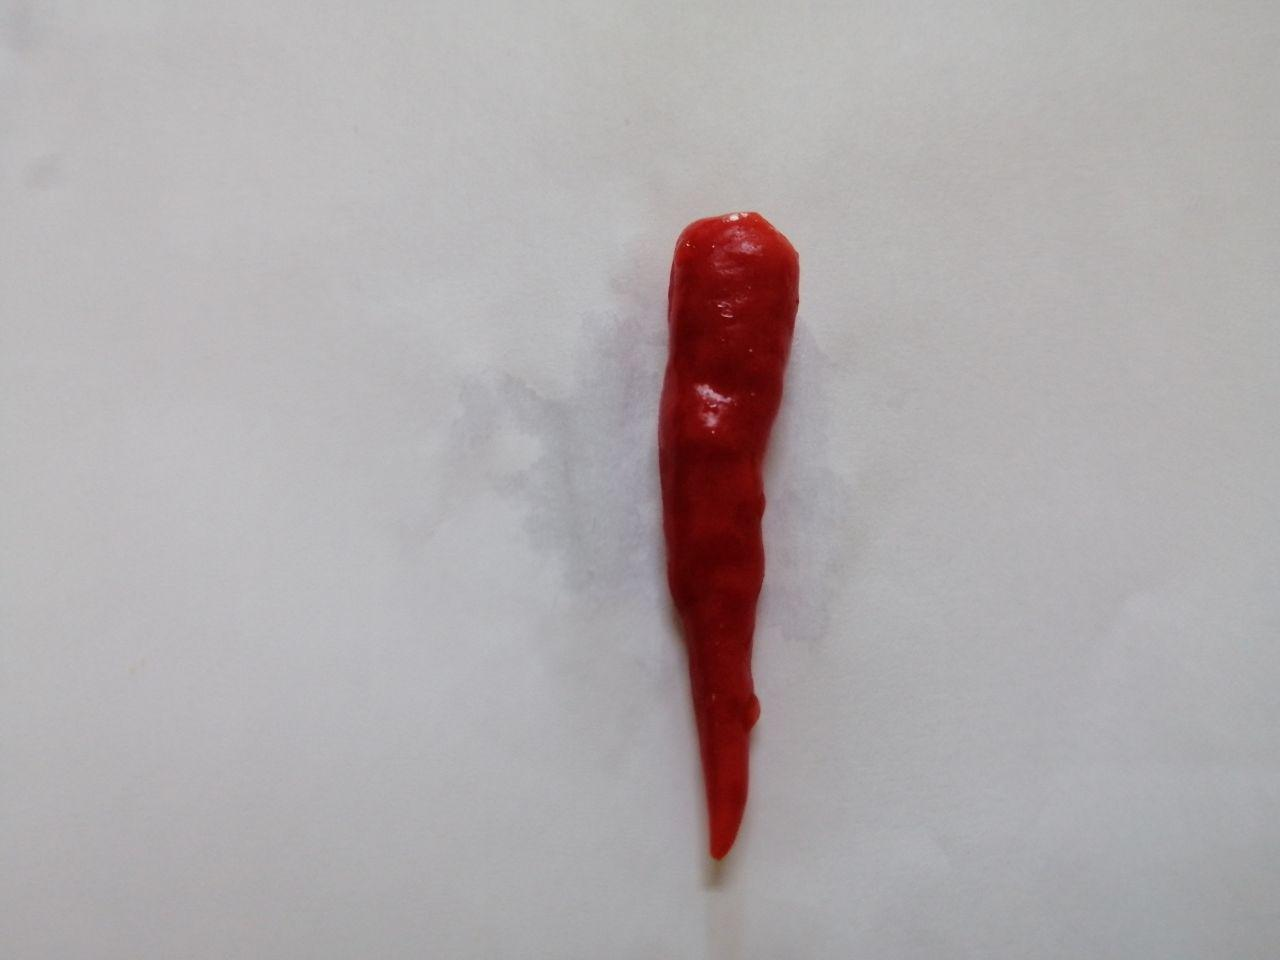lada merah: (634, 197, 818, 880)
